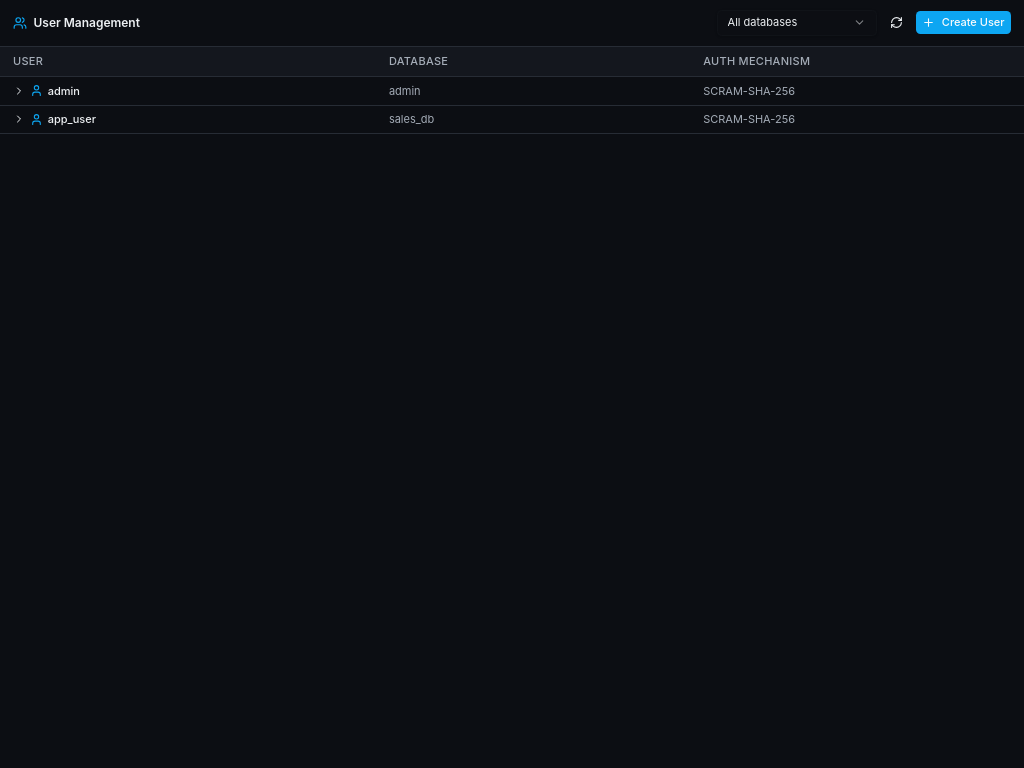
Test: UserManagementView (user & role management) › grants and revokes roles in the editor
Expected: the element with test id "user-row-admin.admin" is shown, 13,84 -> 795,98
Click the button with test id "create-user-btn" at coordinates (963, 23), box 916,11 -> 1011,34
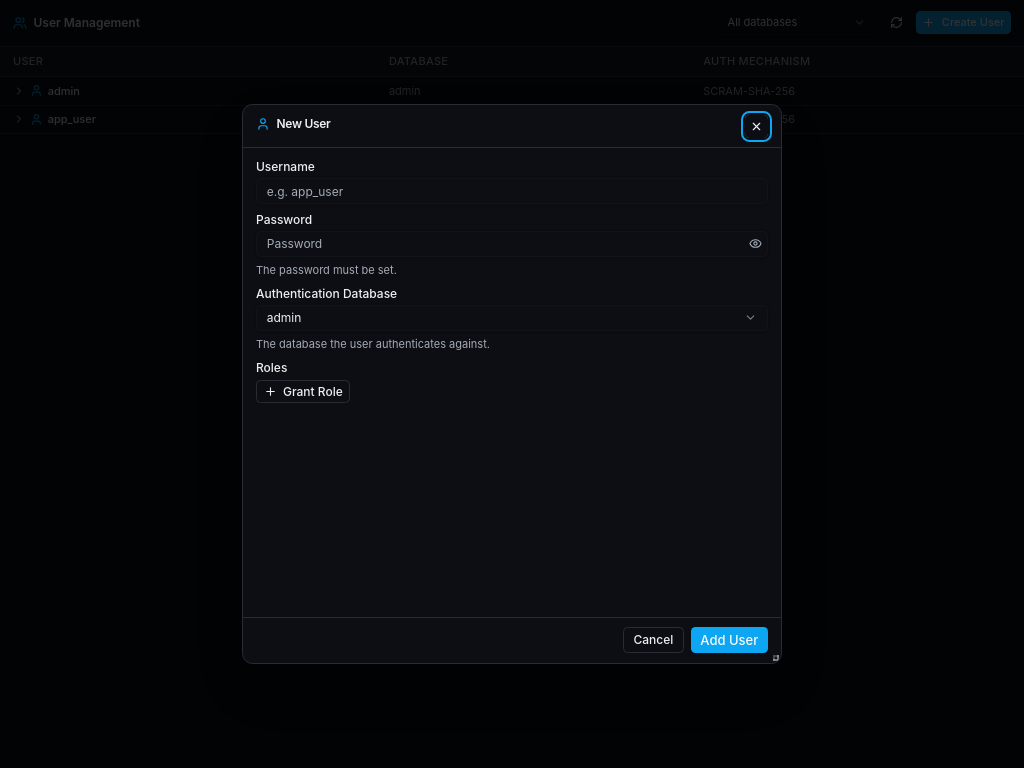
Click the button with test id "add-role-btn" at coordinates (303, 392), box 256,380 -> 350,403
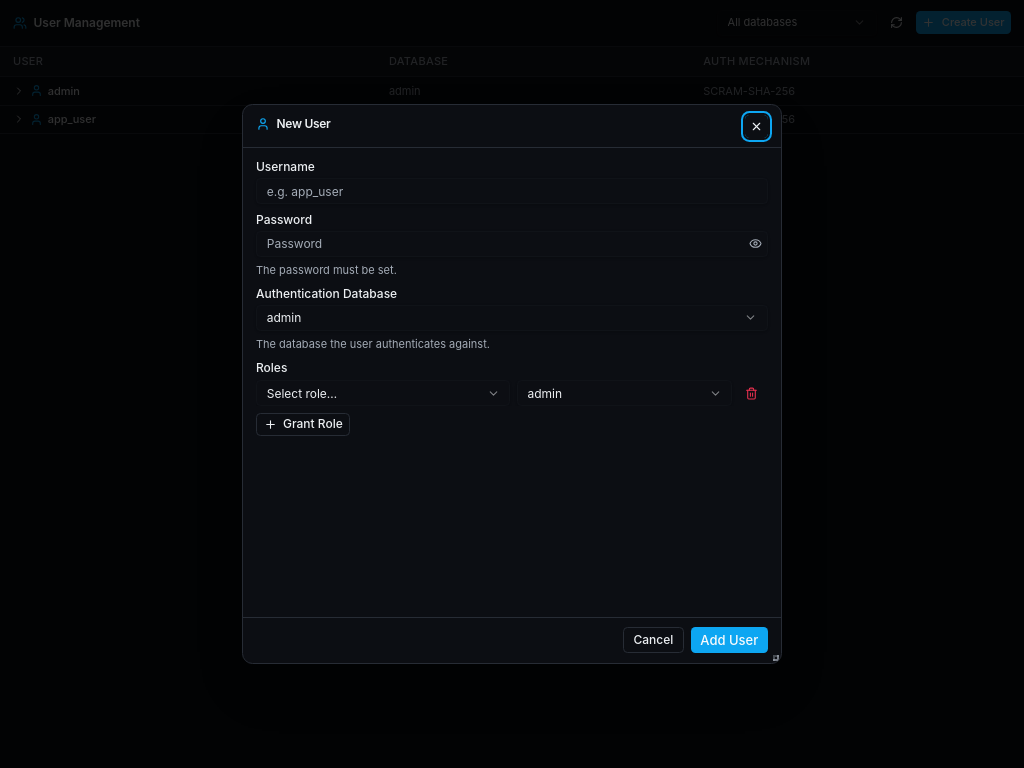
Now the element with test id "role-row-0" is shown, box 256,380 -> 765,406
Click the button with test id "revoke-role-0" at coordinates (752, 393), box 739,380 -> 765,406
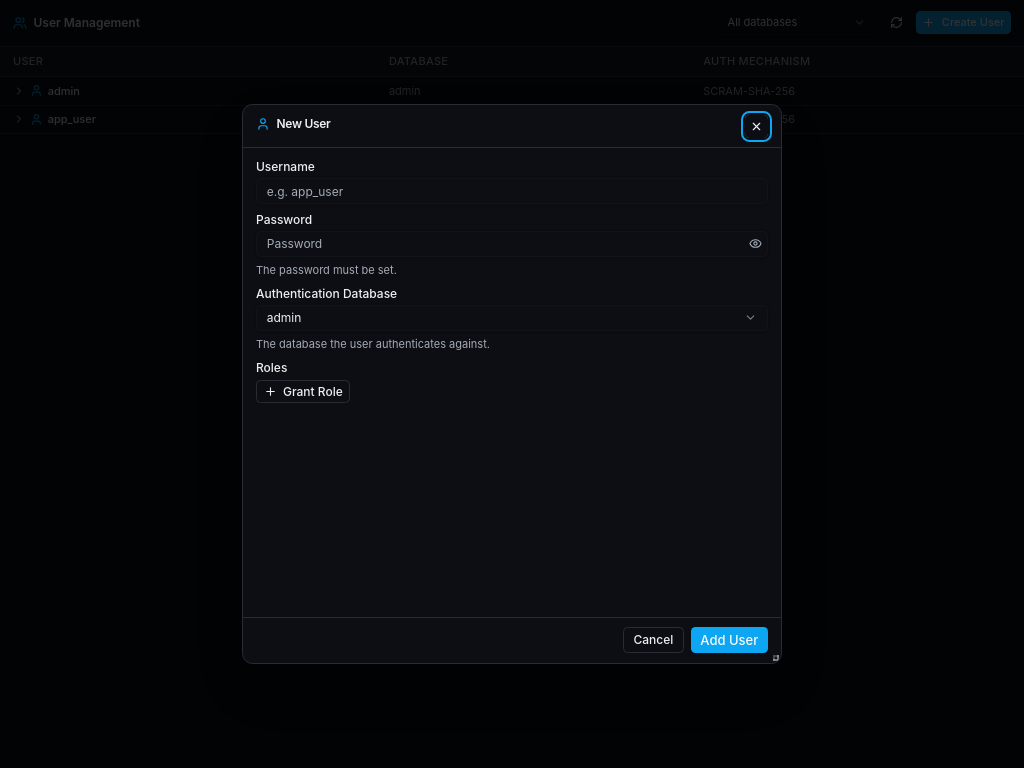
Now the element with test id "role-row-0" is gone
